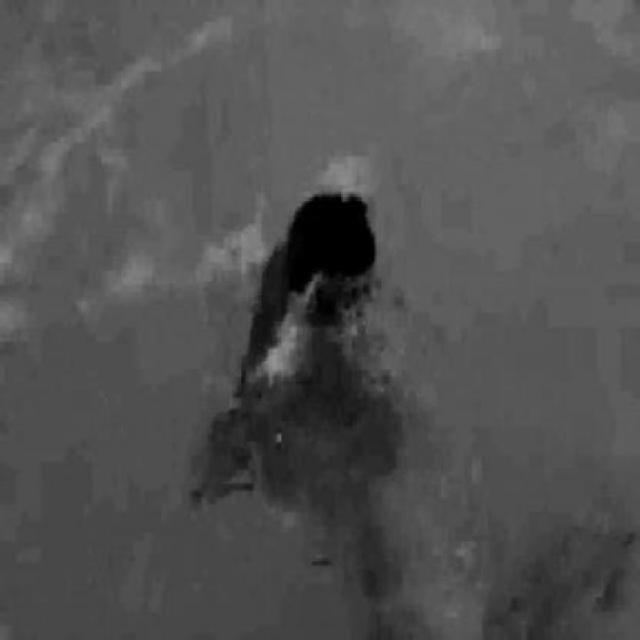drowning: (195, 186, 447, 529)
